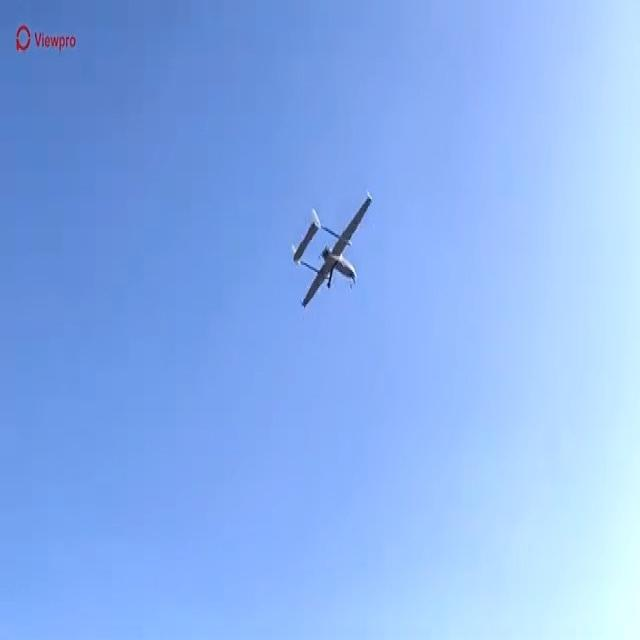drones: (282, 180, 377, 325)
